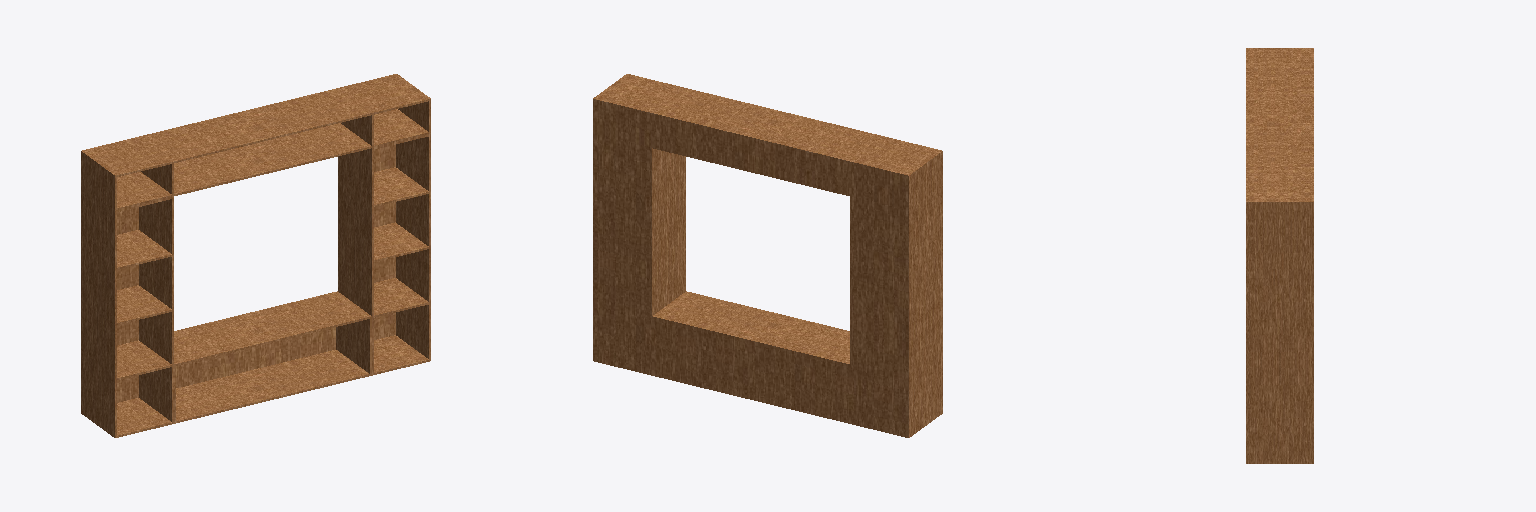
3 renders of one model, left to right at view 1: azimuth 30°, elevation 25°; view 2: azimuth 150°, elevation 25°; view 3: azimuth 270°, elevation 25°, orthographic.
Parts seen in each view (by area): view 1: shelf; view 2: shelf; view 3: shelf.
Part boxes in pixels (x1,y1,x2,y2): shelf: (81,74,430,437); shelf: (593,74,942,437); shelf: (1246,48,1313,463).
Bounding box in the file's own units: 320 × 254 × 60.
1 materials, 1 textured.